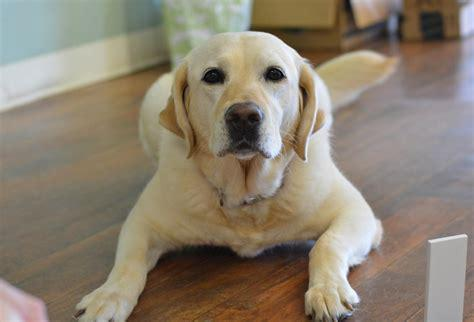dog: (74, 31, 394, 322)
